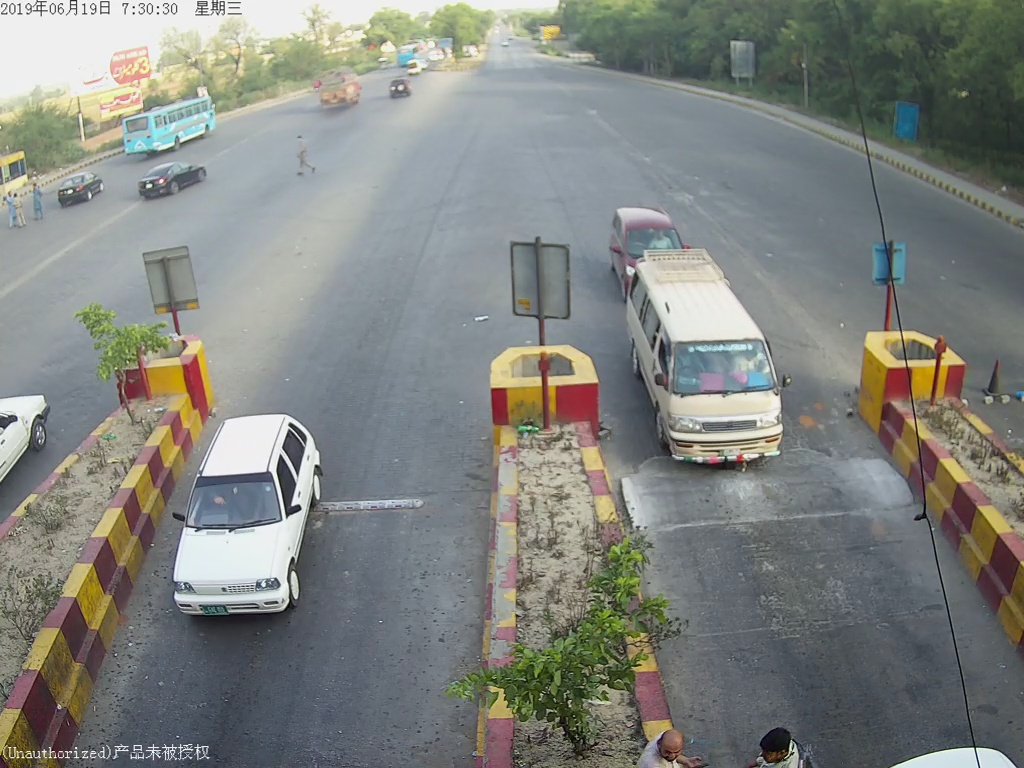Cat-1: (179, 412, 331, 621)
Cat-2: (624, 259, 796, 474)
